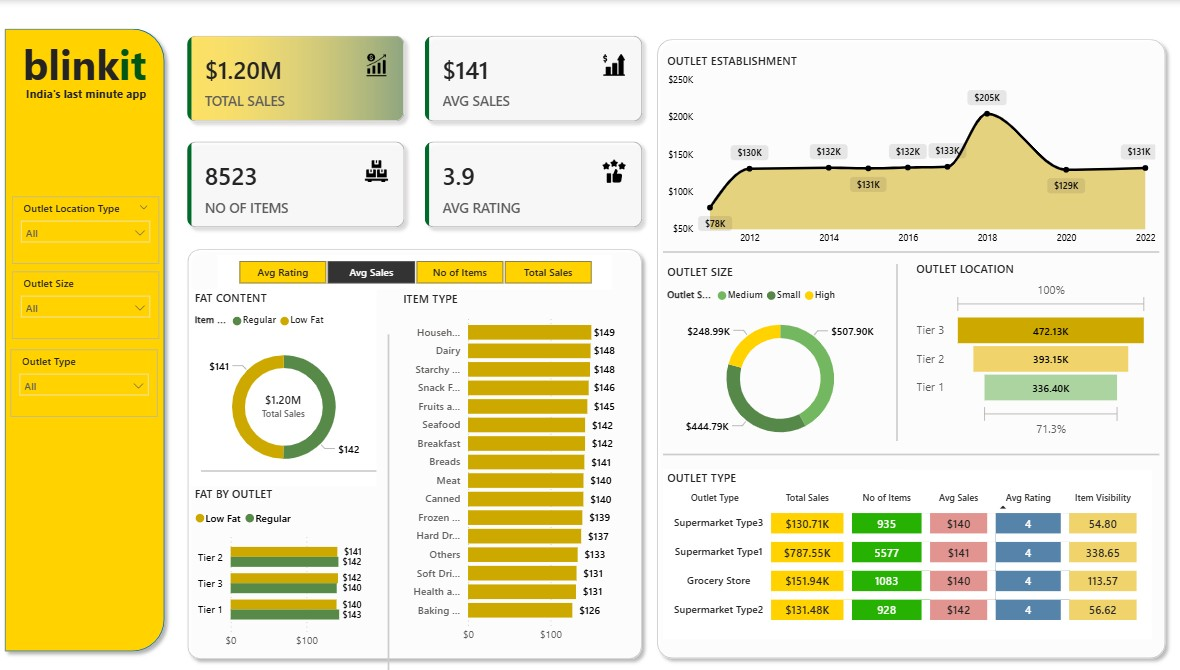

The dashboard page shown, as its layout file describes it:
{"tool":"powerbi","page":{"name":"Page 1","canvas":[1400,800],"ordinal":0},"visuals":[{"type":"shape","box":[0,25.4,206.3,751.8],"z":0},{"type":"textbox","box":[252.7,703.4,208.5,68.9],"z":1000},{"type":"textbox","box":[14.1,37.1,178.5,84.8],"z":2000},{"type":"textbox","box":[15.9,95.4,178.5,84.8],"z":3000},{"type":"cardVisual","fields":{"Data":["BlinkIT Grocery Data.Total Sales","BlinkIT Grocery Data.Avg Sales","BlinkIT Grocery Data.No of Items","BlinkIT Grocery Data.Avg Rating"]},"box":[206.7,24.8,570.5,260.4],"z":4000},{"type":"shape","box":[216.4,284.5,553.1,501],"z":5000},{"type":"slicer","fields":{"Values":["Metrics.Metrics"]},"box":[259.8,300.4,464.8,40.6],"z":6000},{"type":"donutChart","title":"FAT CONTENT","fields":{"Y":["BlinkIT Grocery Data.Avg Sales"],"Category":["BlinkIT Grocery Data.Item Fat Content"]},"box":[228,341.1,219.2,231.5],"z":7000},{"type":"cardVisual","fields":{"Data":["BlinkIT Grocery Data.Total Sales"]},"box":[286.3,436.5,102.5,83.1],"z":8000},{"type":"clusteredBarChart","title":"FAT BY OUTLET","fields":{"Y":["BlinkIT Grocery Data.Avg Sales"],"Category":["BlinkIT Grocery Data.Outlet Location Type"],"Series":["BlinkIT Grocery Data.Item Fat Content"]},"box":[228,572.6,219.2,199.7],"z":9000},{"type":"shape","box":[240.4,457.7,206.8,194.4],"z":10000},{"type":"shape","box":[351.7,394.1,219.2,399.4],"z":11000},{"type":"barChart","title":"ITEM TYPE","fields":{"Y":["BlinkIT Grocery Data.Avg Sales"],"Category":["BlinkIT Grocery Data.Item Type"]},"box":[473.6,342.9,272.2,422.4],"z":12000},{"type":"shape","box":[768.8,37.1,616.8,747.6],"z":13000},{"type":"lineChart","title":"OUTLET ESTABLISHMENT","fields":{"Category":["BlinkIT Grocery Data.Outlet Establishment Year"],"Y":["BlinkIT Grocery Data.Total Sales"]},"box":[784.7,61.9,585,235.1],"z":14000},{"type":"shape","box":[784.7,199.7,585,194.4],"z":15000},{"type":"donutChart","title":"OUTLET SIZE","fields":{"Y":["BlinkIT Grocery Data.Total Sales"],"Category":["BlinkIT Grocery Data.Outlet Size"]},"box":[784.7,311.1,275.7,224.5],"z":16000},{"type":"shape","box":[950.8,311.1,219.2,208.5],"z":16001},{"type":"funnel","title":"OUTLET LOCATION","fields":{"Category":["BlinkIT Grocery Data.Outlet Location Type"],"Y":["Sum(BlinkIT Grocery Data.Sales)"]},"box":[1078.1,307.5,282.8,212.1],"z":16002},{"type":"shape","box":[784.7,438.3,585,194.4],"z":16003},{"type":"pivotTable","title":"OUTLET TYPE","fields":{"Rows":["BlinkIT Grocery Data.Outlet Type"],"Values":["BlinkIT Grocery Data.Total Sales","BlinkIT Grocery Data.No of Items","BlinkIT Grocery Data.Avg Sales","BlinkIT Grocery Data.Avg Rating","Sum(BlinkIT Grocery Data.Item Visibility)"]},"box":[784.7,553.2,576.2,199.7],"z":16004},{"type":"slicer","fields":{"Values":["BlinkIT Grocery Data.Outlet Location Type"]},"box":[17.7,231.5,173.2,79.5],"z":16005},{"type":"slicer","fields":{"Values":["BlinkIT Grocery Data.Outlet Size"]},"box":[17.7,319.9,173.2,79.5],"z":16006},{"type":"slicer","fields":{"Values":["BlinkIT Grocery Data.Outlet Type"]},"box":[15.9,411.8,173.2,79.5],"z":16007}]}

Visuals, with their boxes in screenshot pixels (x1, y1, x2, y2), scaled from the page's 1400x800 canvas onto the 1180x670 screenshot:
shape: <region>0, 21, 174, 651</region>
textbox: <region>213, 589, 389, 647</region>
textbox: <region>12, 31, 162, 102</region>
textbox: <region>13, 80, 164, 151</region>
cardVisual - BlinkIT Grocery Data.Total Sales x BlinkIT Grocery Data.Avg Sales: <region>174, 21, 655, 239</region>
shape: <region>182, 238, 649, 658</region>
slicer - Metrics.Metrics: <region>219, 252, 611, 286</region>
"FAT CONTENT" donutChart: <region>192, 286, 377, 480</region>
cardVisual - BlinkIT Grocery Data.Total Sales: <region>241, 366, 328, 435</region>
"FAT BY OUTLET" clusteredBarChart: <region>192, 480, 377, 647</region>
shape: <region>203, 383, 377, 546</region>
shape: <region>296, 330, 481, 665</region>
"ITEM TYPE" barChart: <region>399, 287, 629, 641</region>
shape: <region>648, 31, 1168, 657</region>
"OUTLET ESTABLISHMENT" lineChart: <region>661, 52, 1154, 249</region>
shape: <region>661, 167, 1154, 330</region>
"OUTLET SIZE" donutChart: <region>661, 261, 894, 449</region>
shape: <region>801, 261, 986, 435</region>
"OUTLET LOCATION" funnel: <region>909, 258, 1147, 435</region>
shape: <region>661, 367, 1154, 530</region>
"OUTLET TYPE" pivotTable: <region>661, 463, 1147, 631</region>
slicer - BlinkIT Grocery Data.Outlet Location Type: <region>15, 194, 161, 260</region>
slicer - BlinkIT Grocery Data.Outlet Size: <region>15, 268, 161, 334</region>
slicer - BlinkIT Grocery Data.Outlet Type: <region>13, 345, 159, 411</region>
